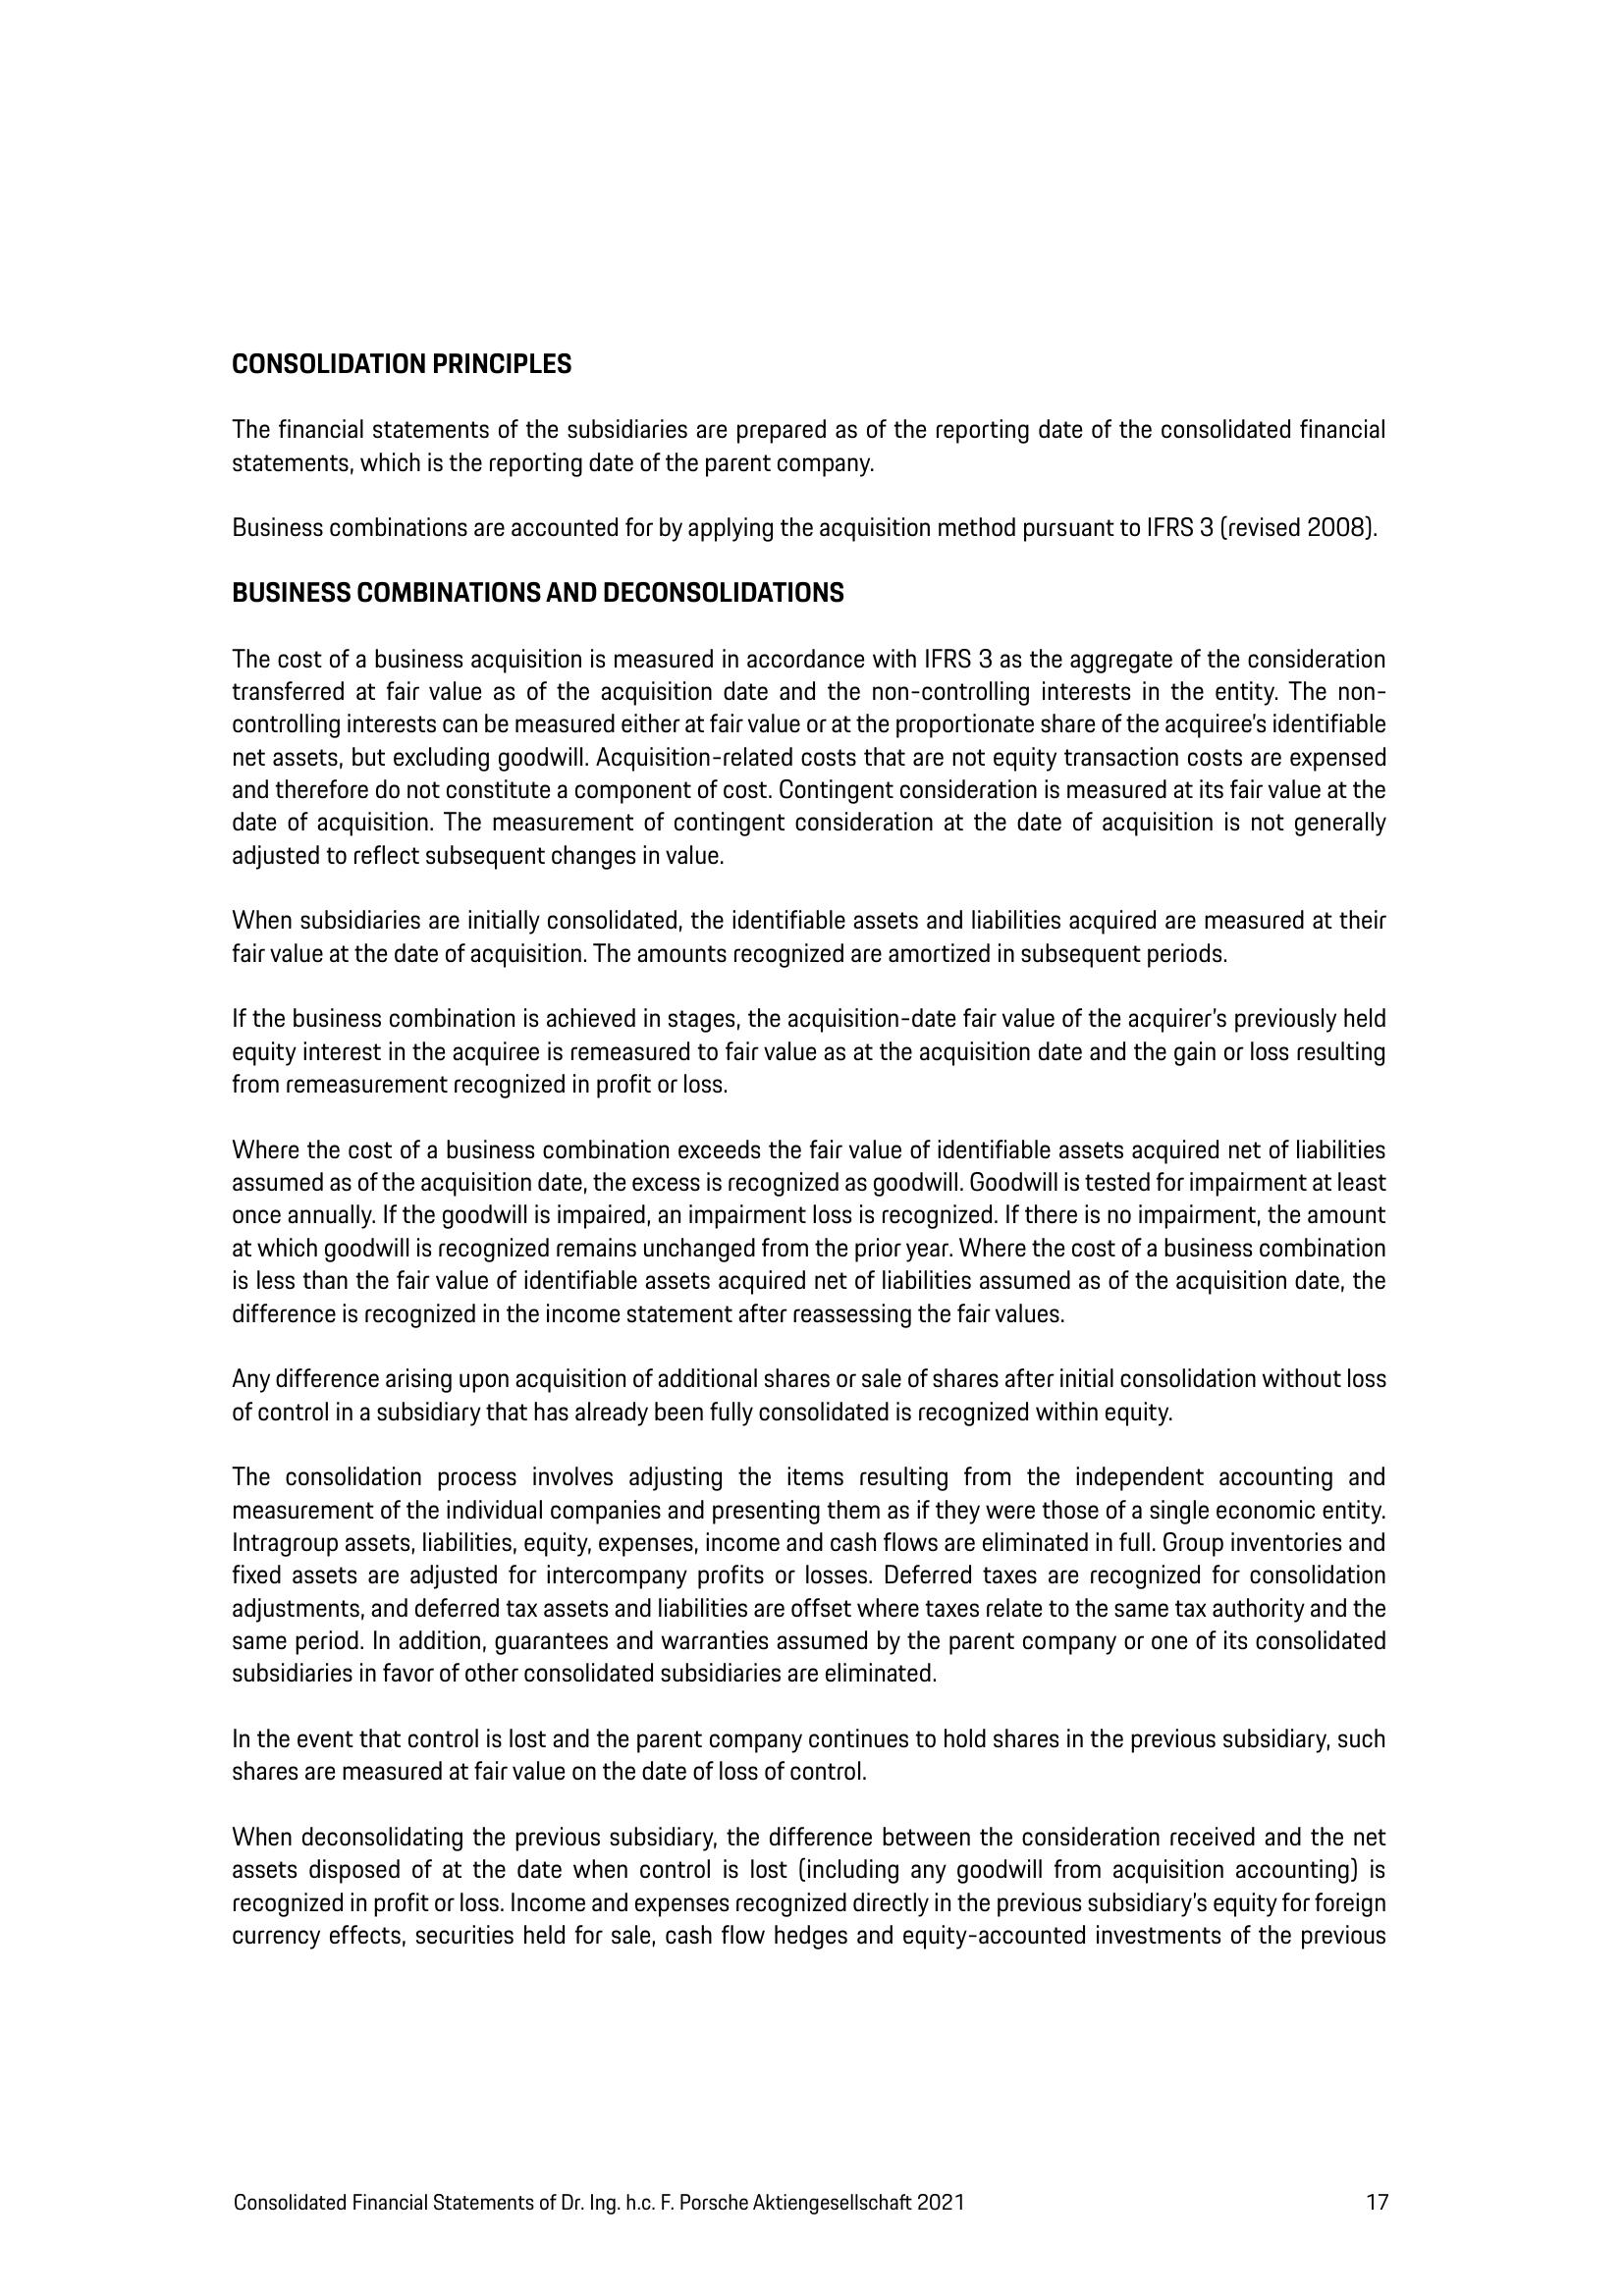Footer: (0, 2103, 1624, 2296)
Header: (0, 0, 1624, 197)
